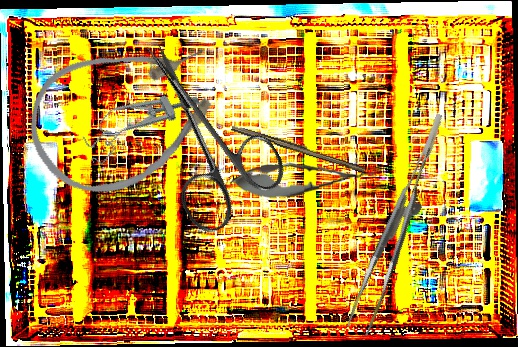Cannula: (10, 14, 242, 216)
Iris Scissors: (103, 17, 296, 240)
Micro Scissor: (228, 155, 380, 202)
Scalpel Handle: (230, 122, 367, 174)
Speculum: (75, 72, 205, 168)
Tissue Forceps: (326, 113, 478, 337)
